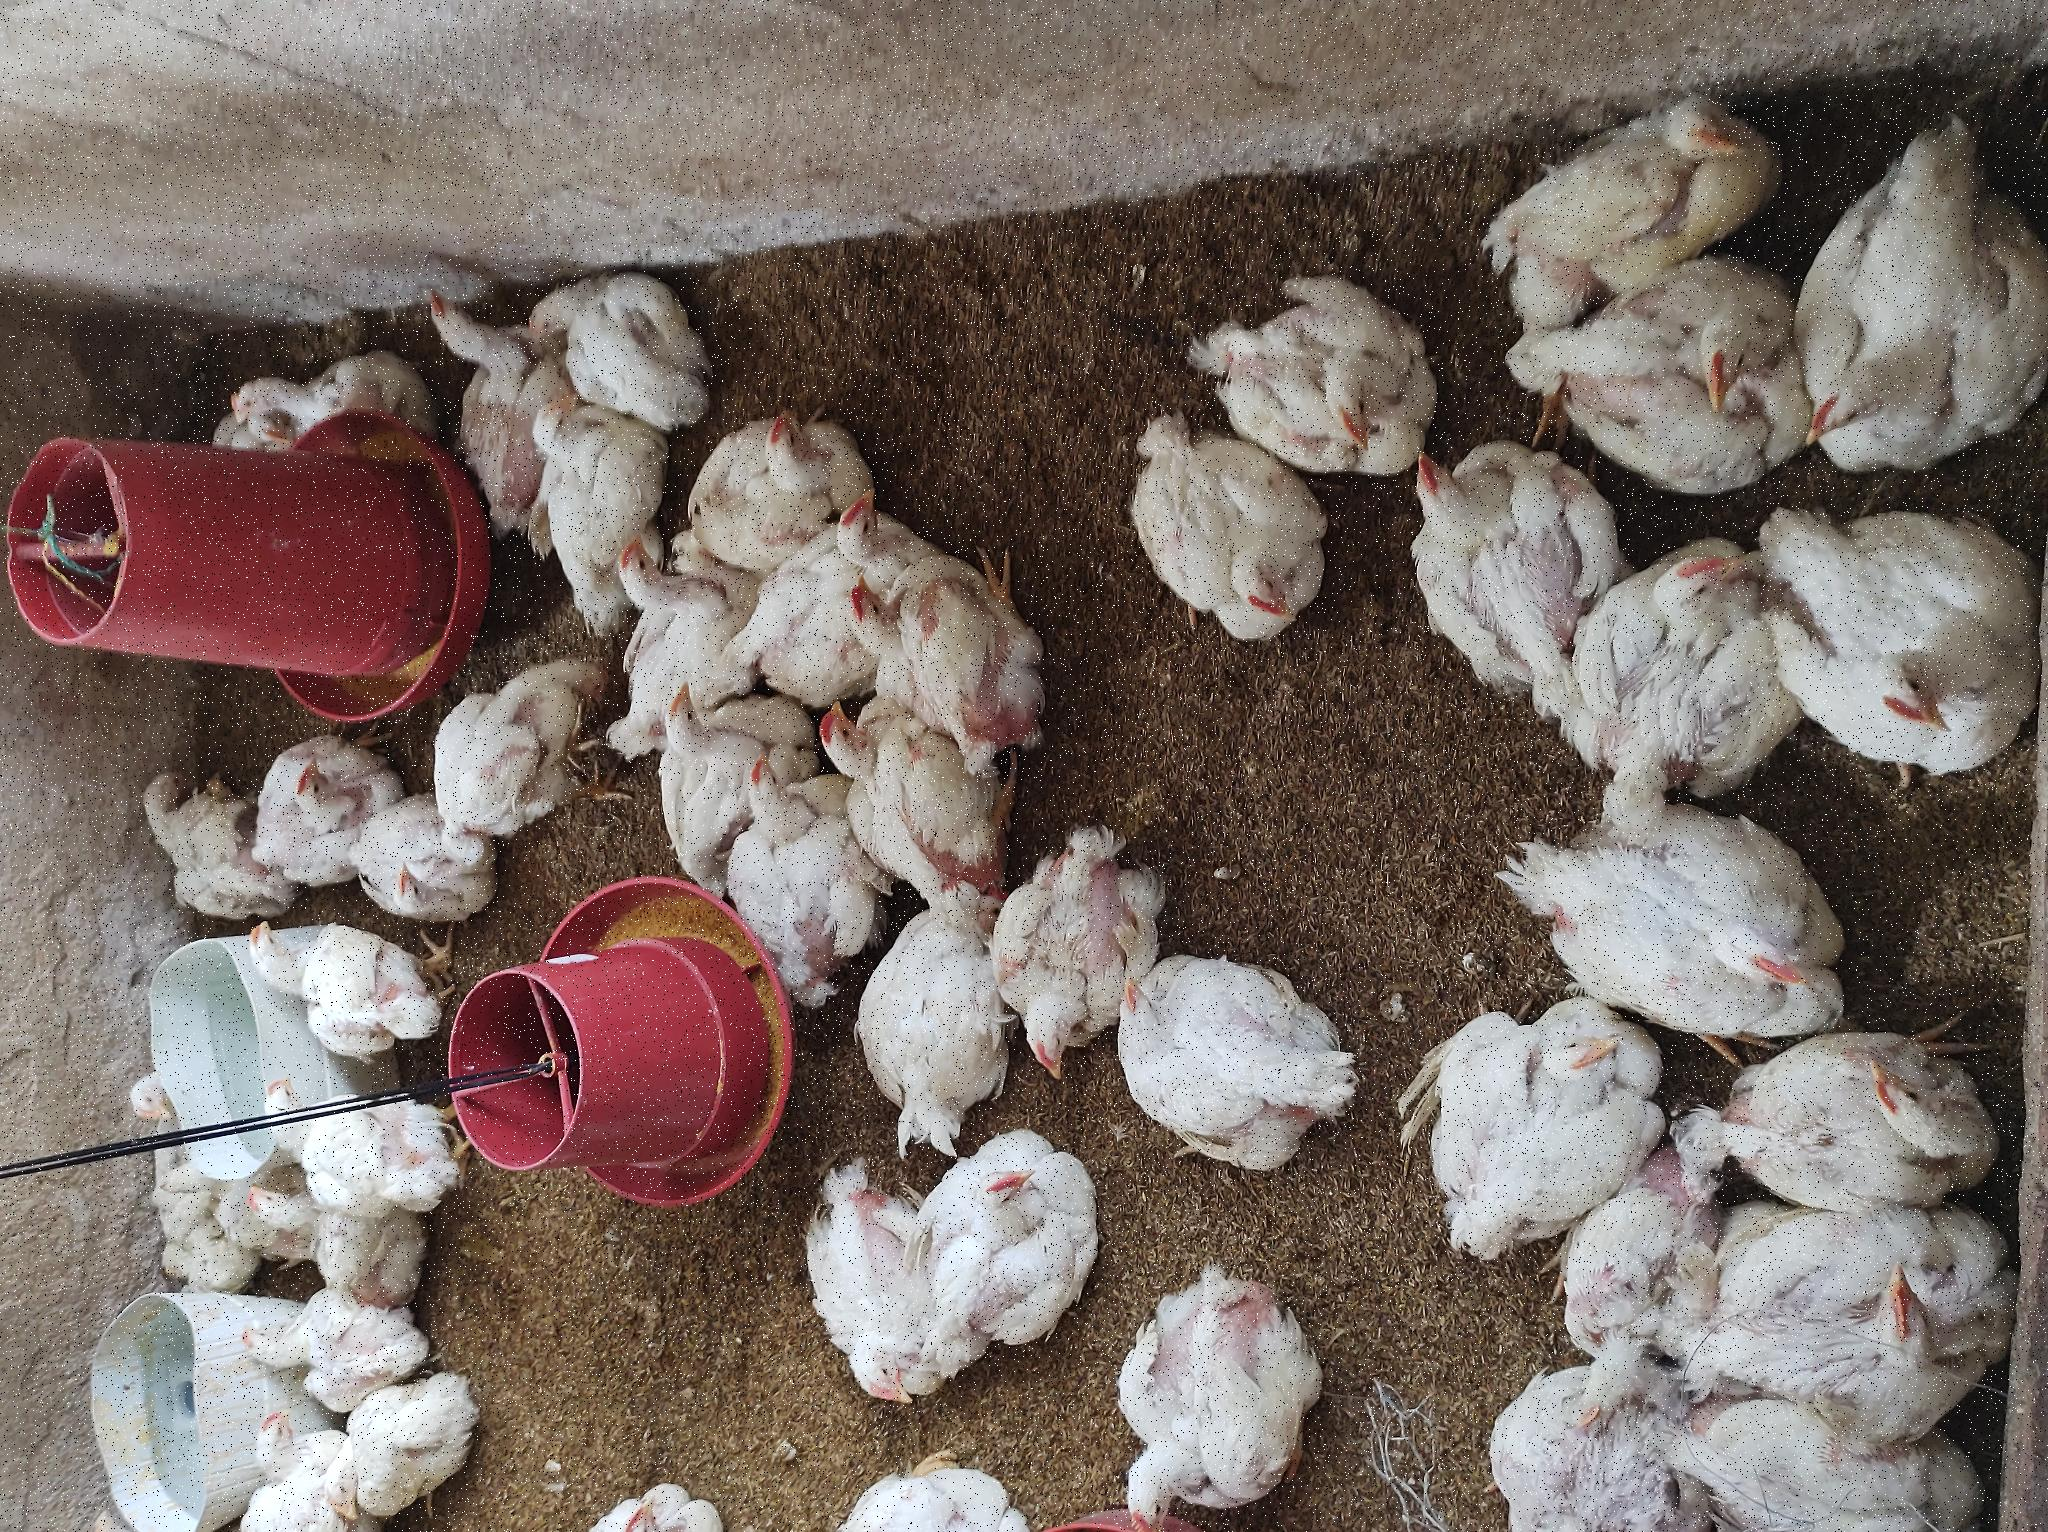Pollos: (3, 1106, 278, 1318), (344, 1123, 581, 1365), (455, 991, 698, 1168), (378, 845, 631, 1014), (899, 1110, 1076, 1337), (116, 789, 360, 951), (191, 906, 394, 1101), (647, 813, 848, 1004), (692, 430, 886, 623), (264, 1400, 544, 1532), (1075, 1212, 1244, 1424), (861, 1397, 1117, 1532), (473, 240, 611, 465), (833, 846, 993, 1033), (11, 299, 148, 488), (824, 603, 1012, 732), (225, 241, 362, 418), (608, 137, 792, 266), (348, 261, 462, 467), (1041, 422, 1256, 529), (923, 529, 1134, 636), (2, 824, 87, 1067), (586, 360, 726, 505), (656, 245, 806, 380), (153, 220, 254, 418), (639, 718, 782, 834), (1178, 513, 1266, 668), (2, 227, 130, 327), (740, 661, 857, 766), (1030, 729, 1126, 848), (2, 592, 68, 727), (965, 811, 1046, 917), (397, 121, 479, 208), (1091, 229, 1150, 303)
